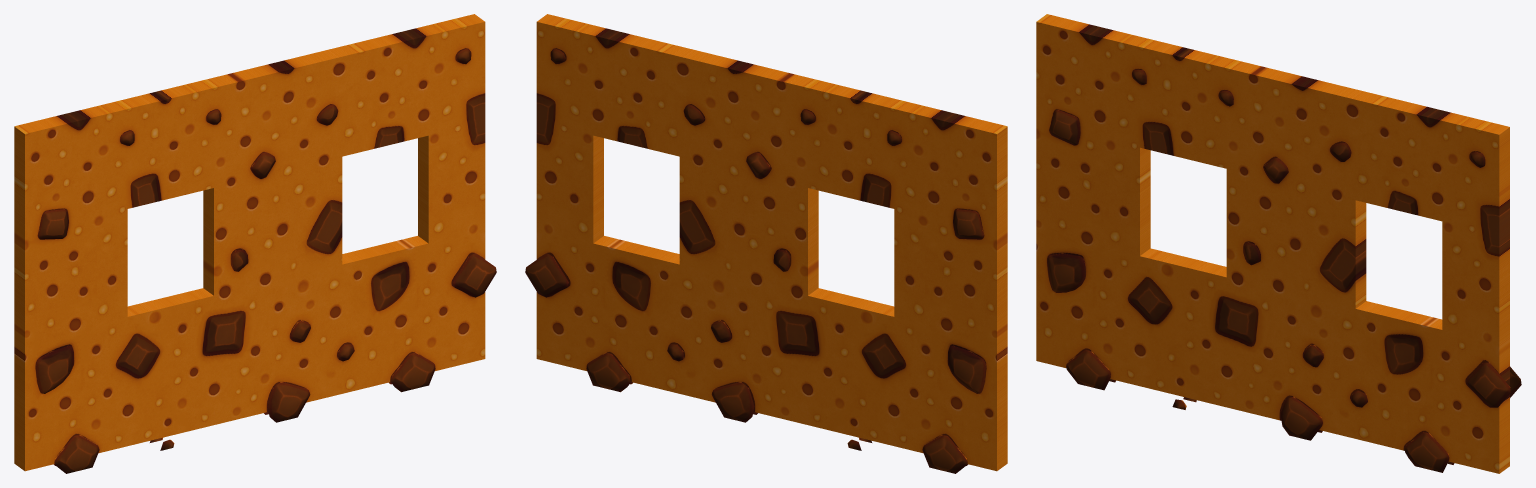
File: Wall_003.fbx
The picture shows the model from 3 angles, left to right: view 1: azimuth 30°, elevation 25°; view 2: azimuth 150°, elevation 25°; view 3: azimuth 330°, elevation 25°; orthographic projection.
Parts seen in each view (by area): view 1: Wall_003; view 2: Wall_003; view 3: Wall_003.
Part boxes in pixels (left/top/right/bottom): Wall_003: left=14, top=14, right=496, bottom=473; Wall_003: left=525, top=14, right=1007, bottom=473; Wall_003: left=1036, top=14, right=1521, bottom=473.
Size of the model in its own units: 5.12 by 3.63 by 0.3052.
